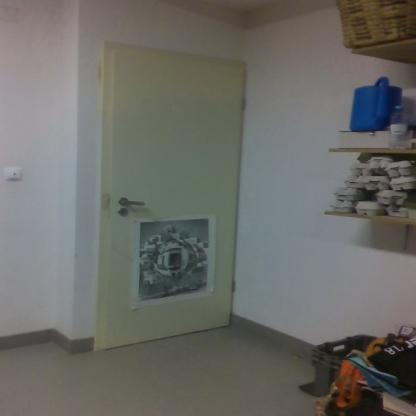door: (112, 47, 232, 351)
hinged: (241, 98, 248, 112), (230, 277, 236, 290)
lever: (118, 198, 146, 207)
